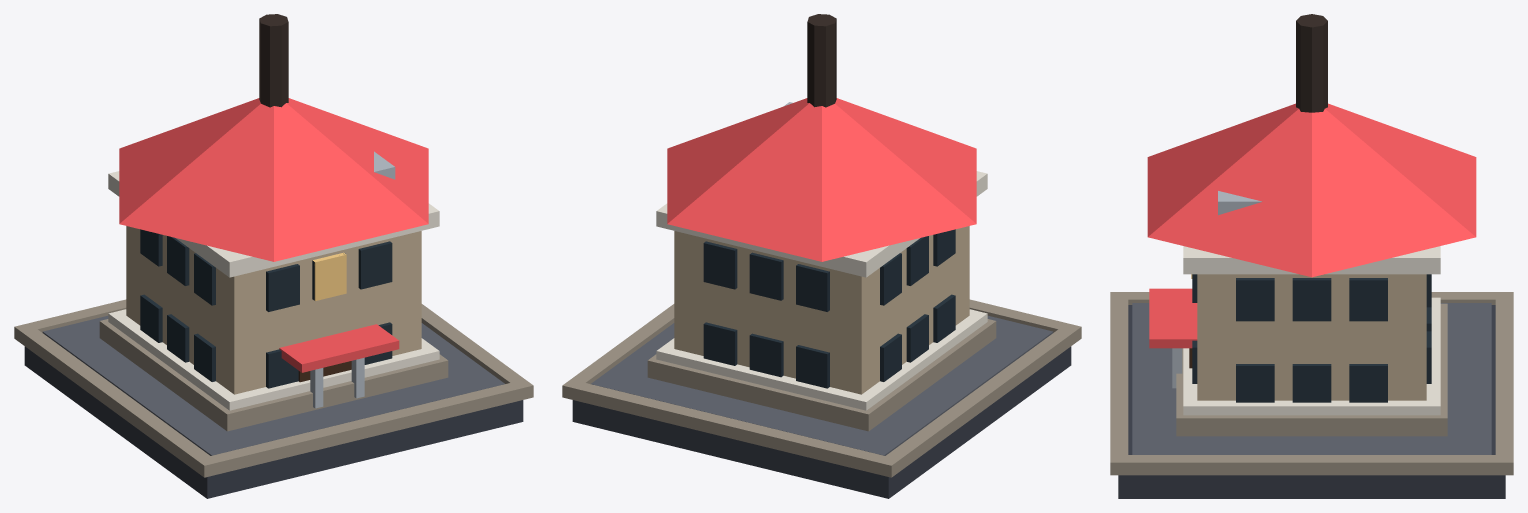
The model's file is city.chaos_house.glb.
3 renders of one model, left to right at view 1: azimuth 30°, elevation 25°; view 2: azimuth 150°, elevation 25°; view 3: azimuth 270°, elevation 25°, orthographic. The views are drawn at different scales.
Parts seen in each view (by area): view 1: city.chaos_house; view 2: city.chaos_house; view 3: city.chaos_house.
Boxes of the visible parts, bbox=[...] form: city.chaos_house: bbox=[14, 14, 533, 498]; city.chaos_house: bbox=[562, 14, 1081, 498]; city.chaos_house: bbox=[1110, 14, 1513, 498].
Bounding box in the file's own units: 2.02 × 2.19 × 2.02.
